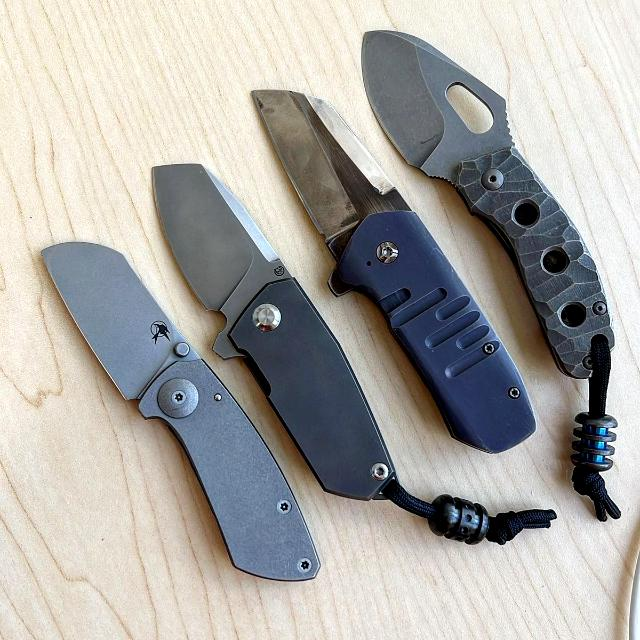pocket-knife: (244, 82, 554, 462), (35, 234, 331, 590), (354, 26, 618, 388), (145, 153, 401, 512)
